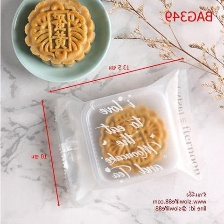snack: (46, 61, 209, 212)
